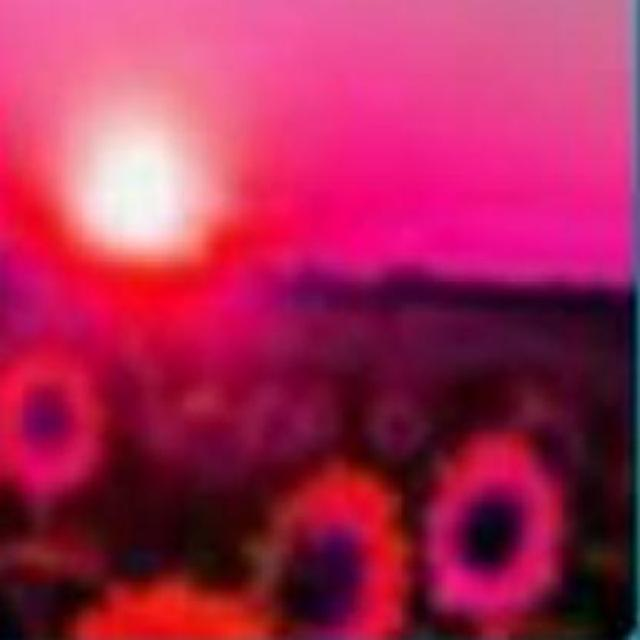sunflower: (422, 437, 570, 625)
